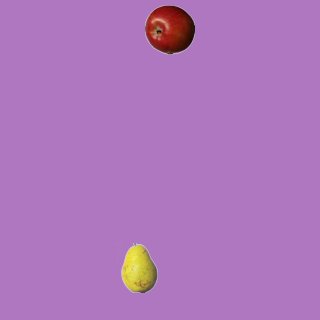Apple Braeburn: (144, 4, 194, 54)
Pear Monster: (114, 242, 164, 292)
